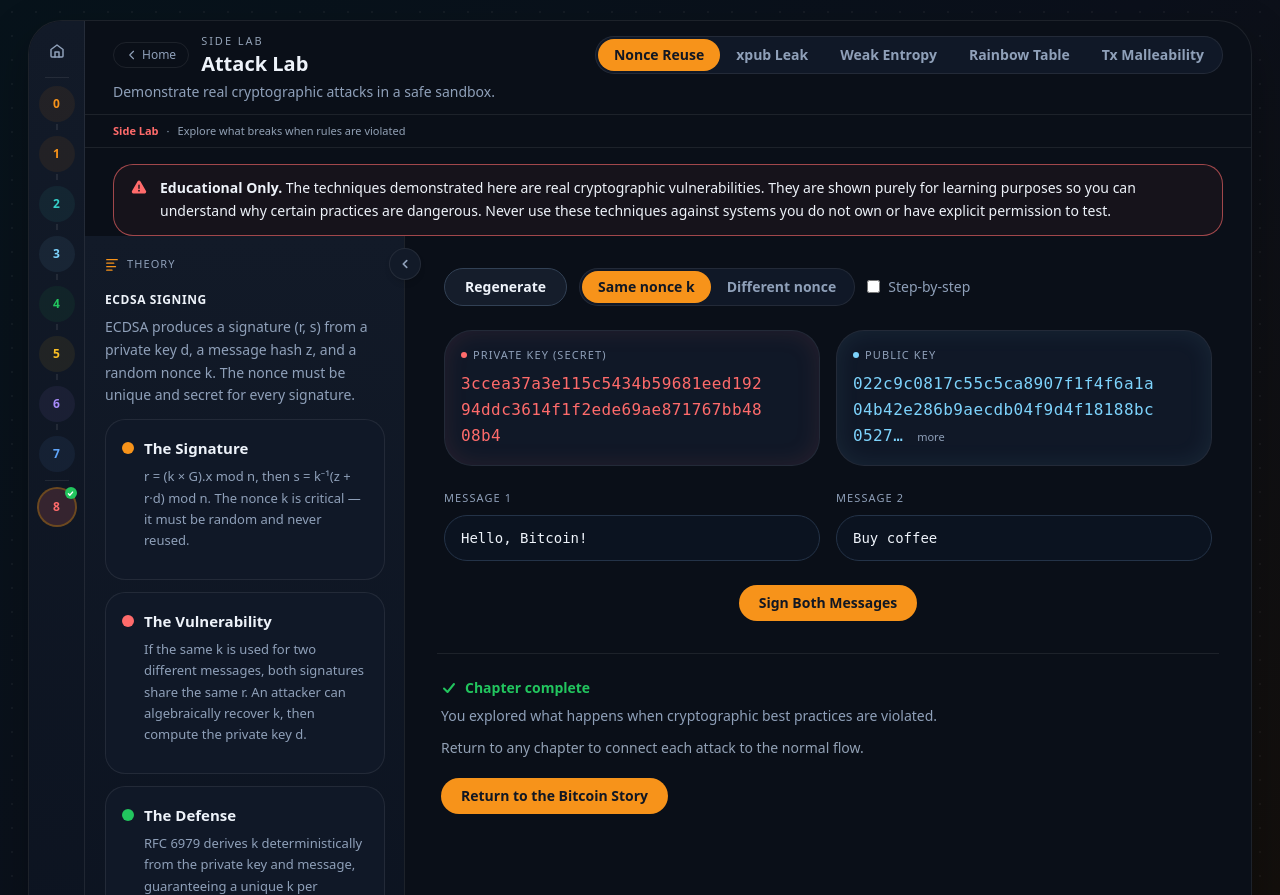
Scenario: AttackLab › rainbow table: crack succeeds for selected hash
This screenshot has width=1280, height=895.
What coordinates should you click on to do the following:
click the tab "Rainbow Table"
I would click on:
 (1019, 55)
Its box is [953,39,1086,71].
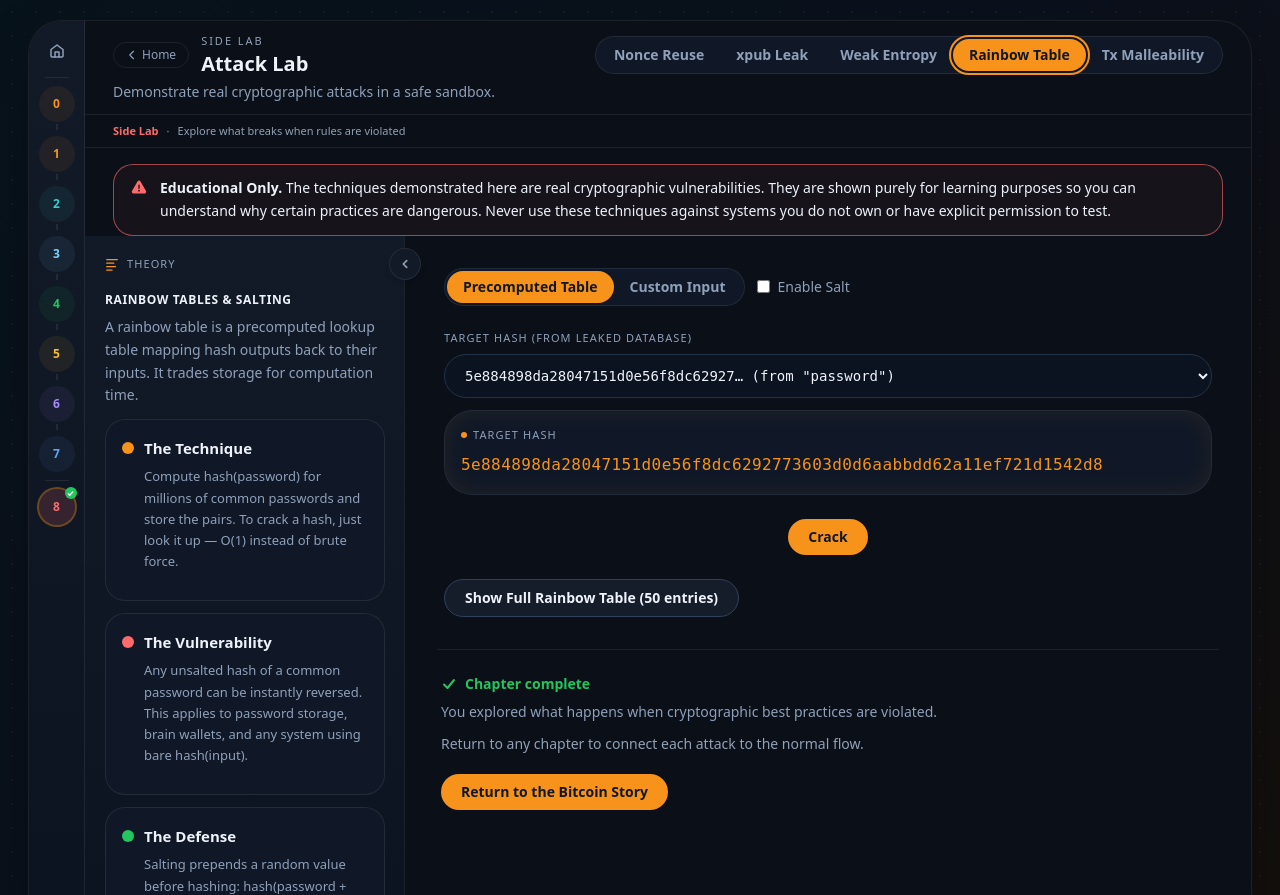
Expected: the button "Crack" is shown
What coordinates should you click on to do the following:
click the button "Crack"
I would click on:
 (828, 536)
Its box is [788,518,868,554].
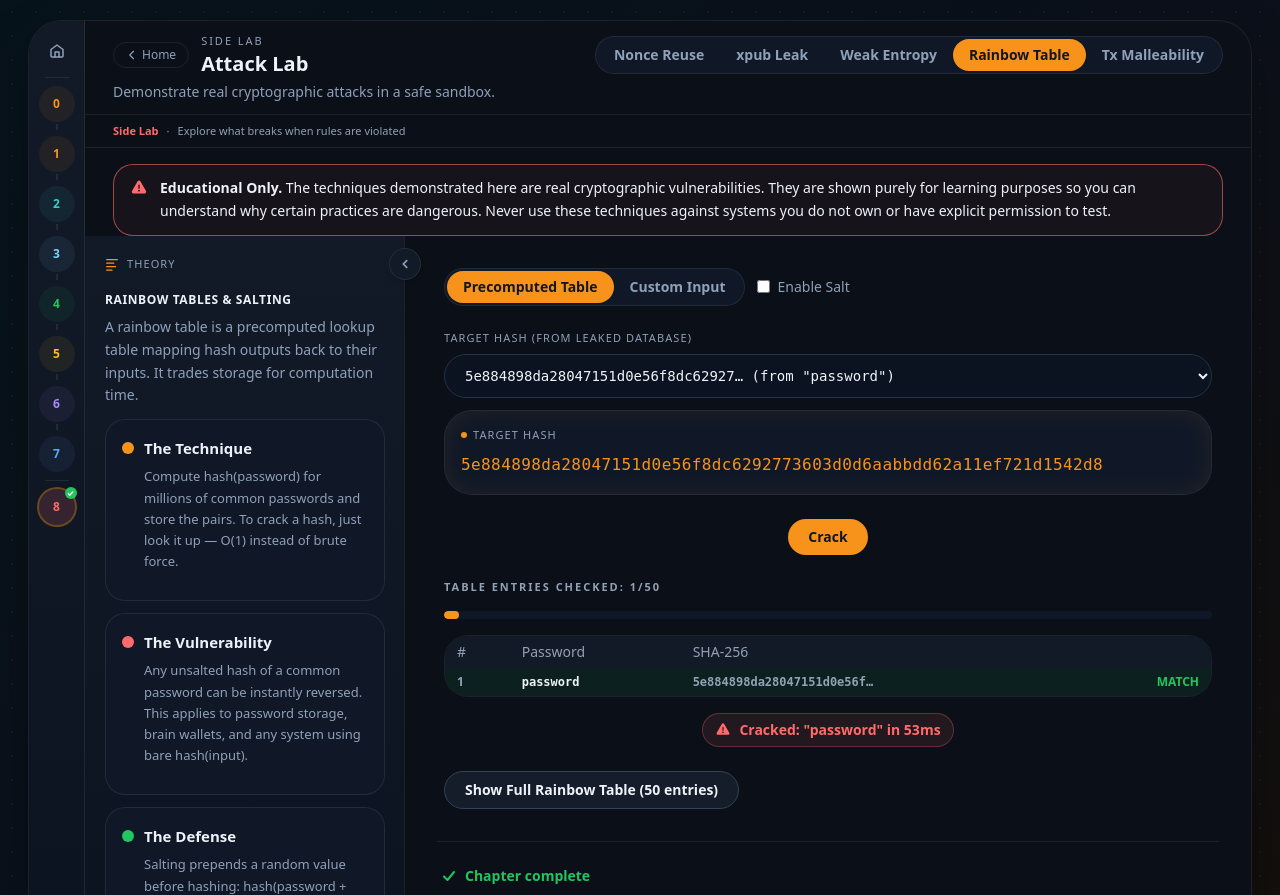
Expected: the text "Cracked: \"password\" in 53ms" is shown, [702,713,954,747]
